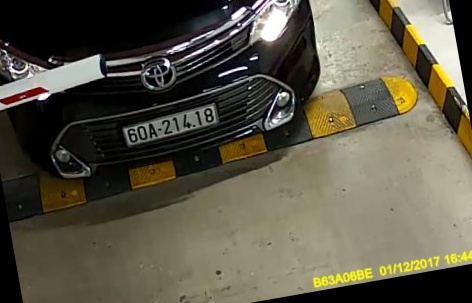plate: (118, 106, 220, 148)
